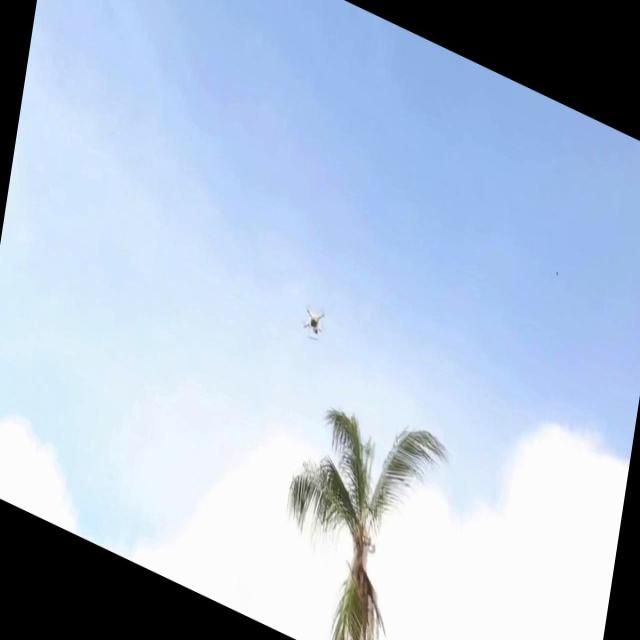drone: (299, 299, 327, 343)
